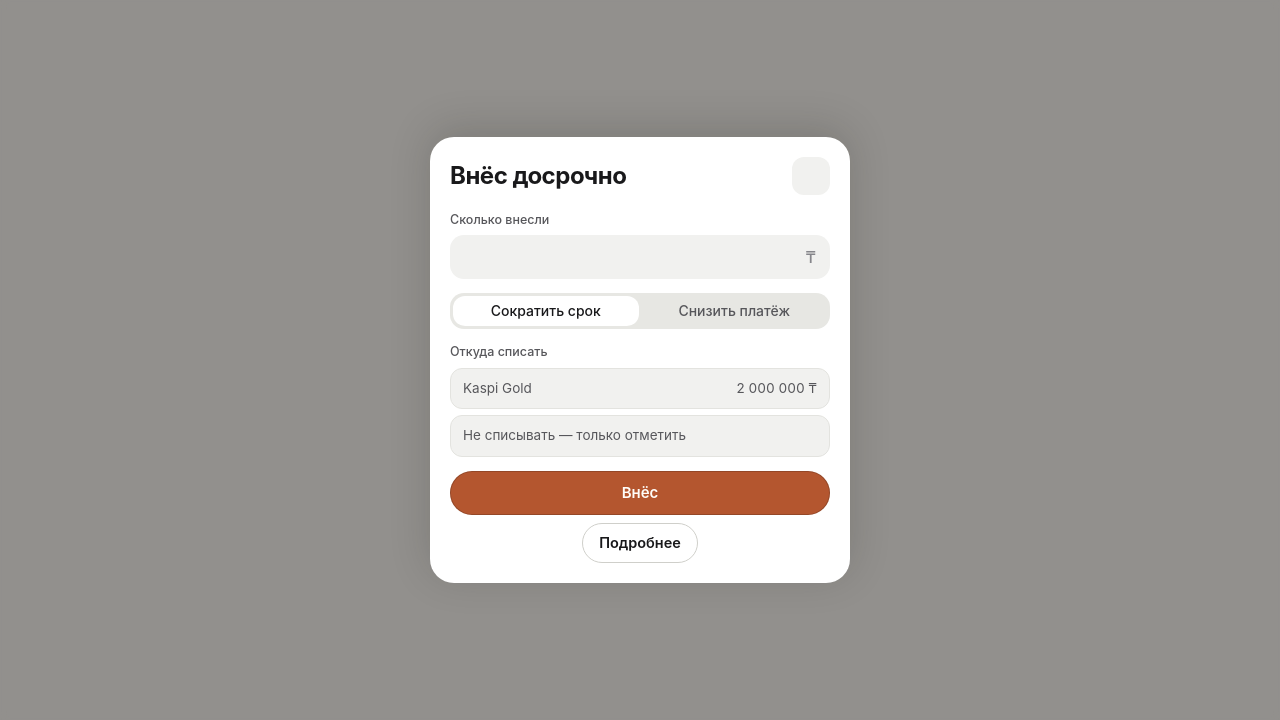
Scenario: F2-04: лист PrepaySheet › без счёта — ошибка формы, записи нет; без суммы — тоже
The width and height of the screenshot is (1280, 720).
Click the button "Внёс" at (640, 493), box [450,471,830,515]
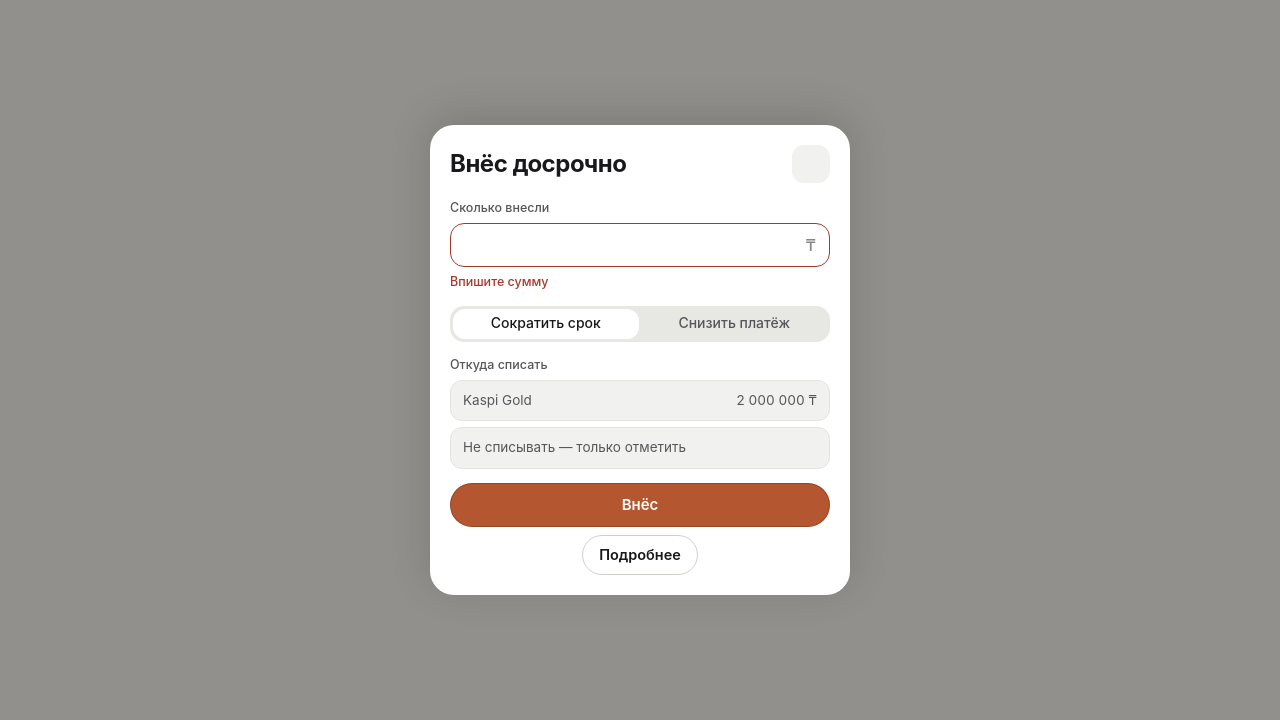
Check: the dialog shows "Впишите сумму", box [450,274,548,289]
Type "100 000" into the field labelled "Сколько внесли ₸ Впишите сумму" at (640, 245), box [450,223,830,267]
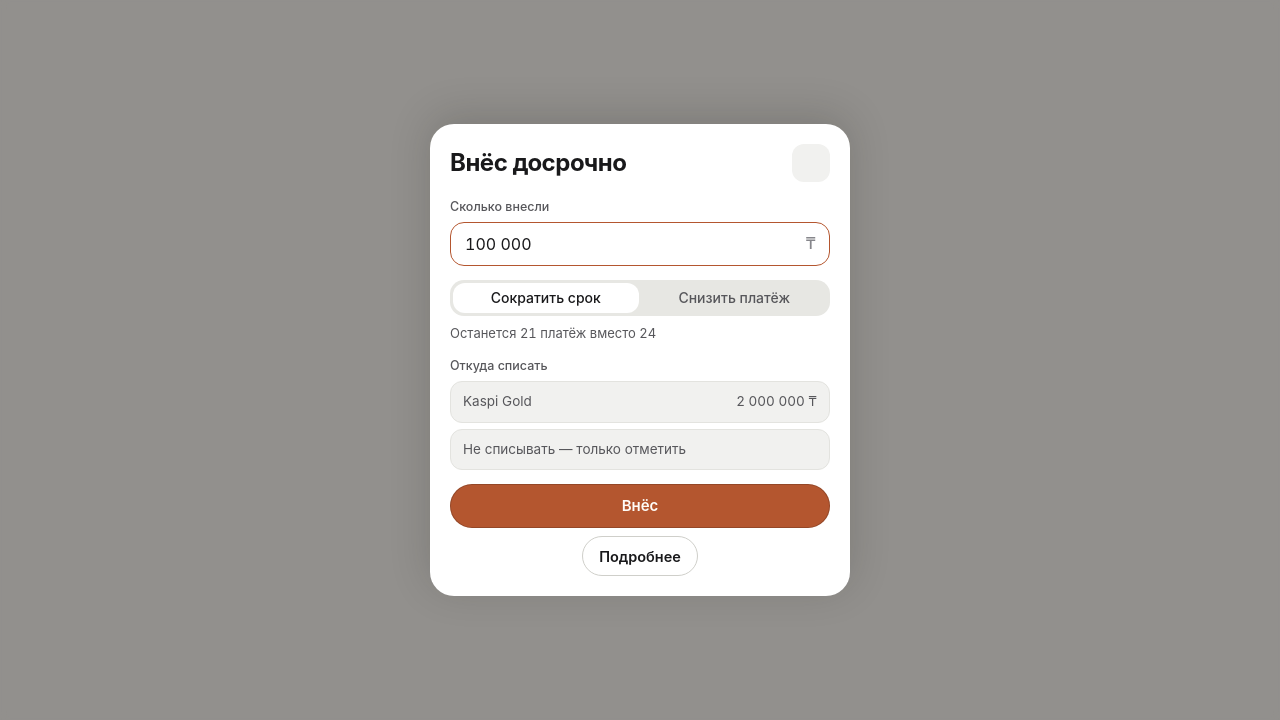
Click the button "Внёс" at (640, 506), box [450,484,830,528]
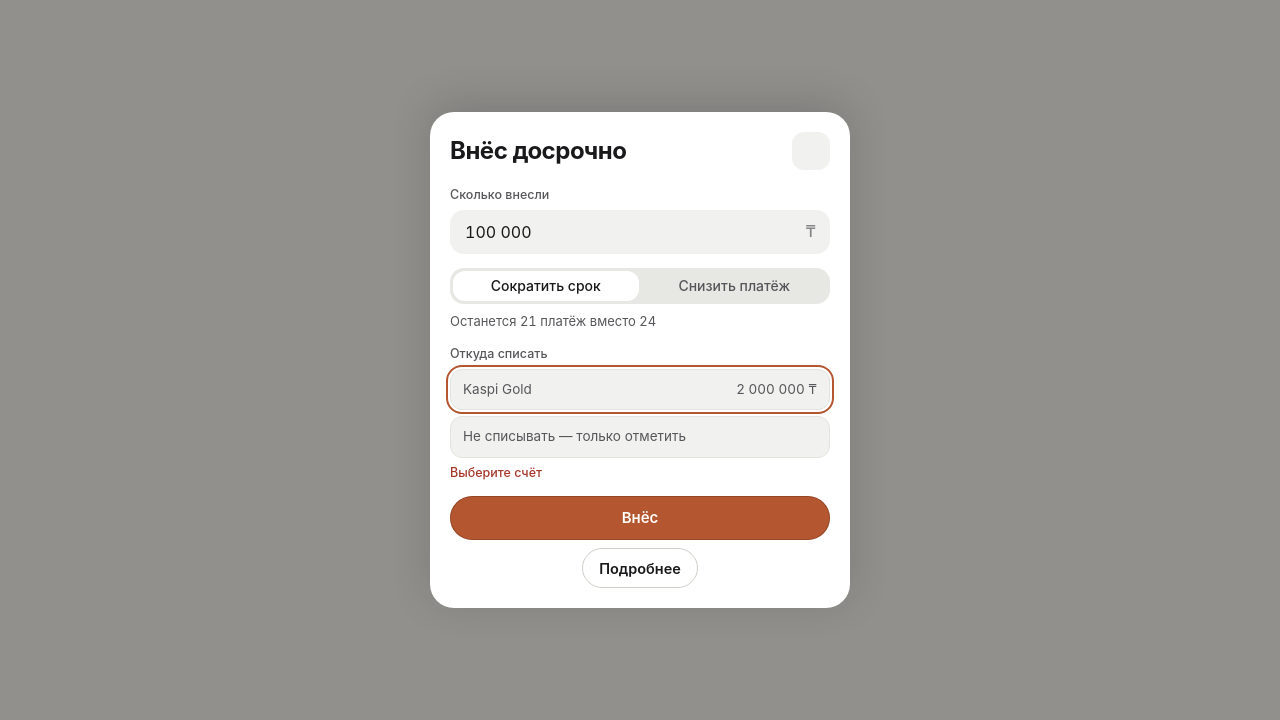
Check: the dialog shows "Выберите счёт", box [450,465,542,480]
